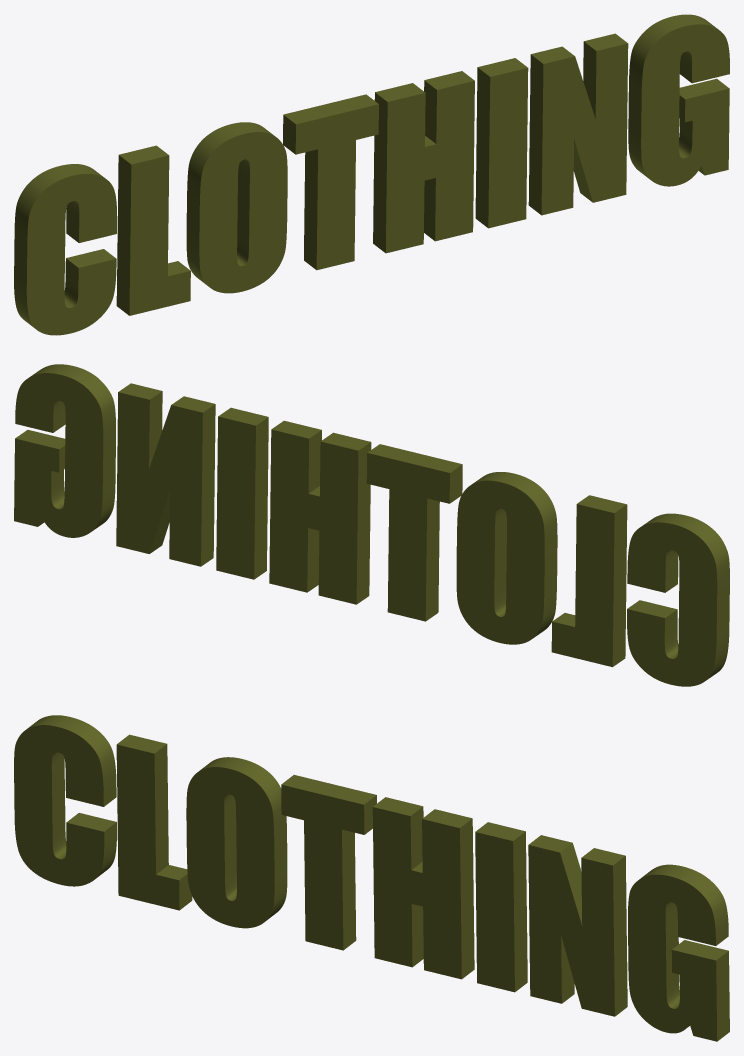
The model's file is Shop_Title.fbx.
3 views of the same model, one above another, from view 1: azimuth 30°, elevation 25°; view 2: azimuth 150°, elevation 25°; view 3: azimuth 330°, elevation 25° (orthographic).
Visible parts, largest first — view 1: Text; view 2: Text; view 3: Text.
Part boxes in pixels (x1,y1,x2,y2): Text: (14,14,729,335); Text: (14,364,729,686); Text: (14,715,729,1041).
Size of the model in its own units: 254 by 55.13 by 9.23.
